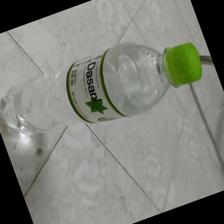Dasani: (2, 38, 202, 142)
